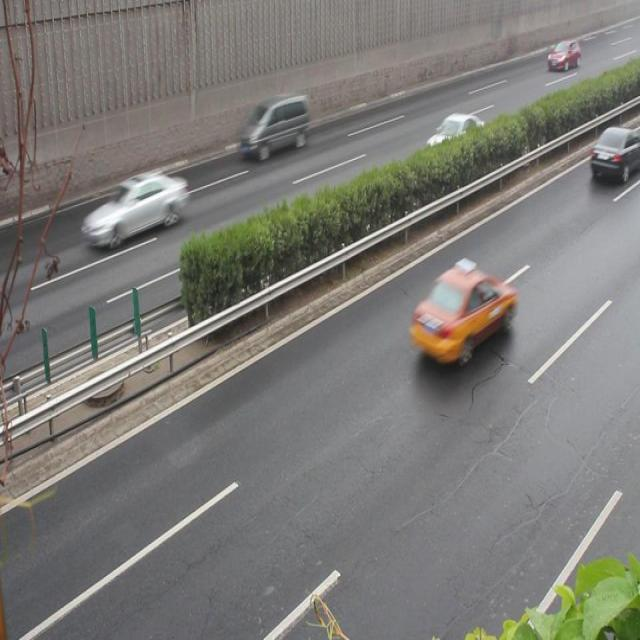car: (407, 267, 514, 365), (82, 172, 187, 246), (424, 111, 488, 171), (589, 123, 640, 183)
truck: (238, 92, 310, 160)
